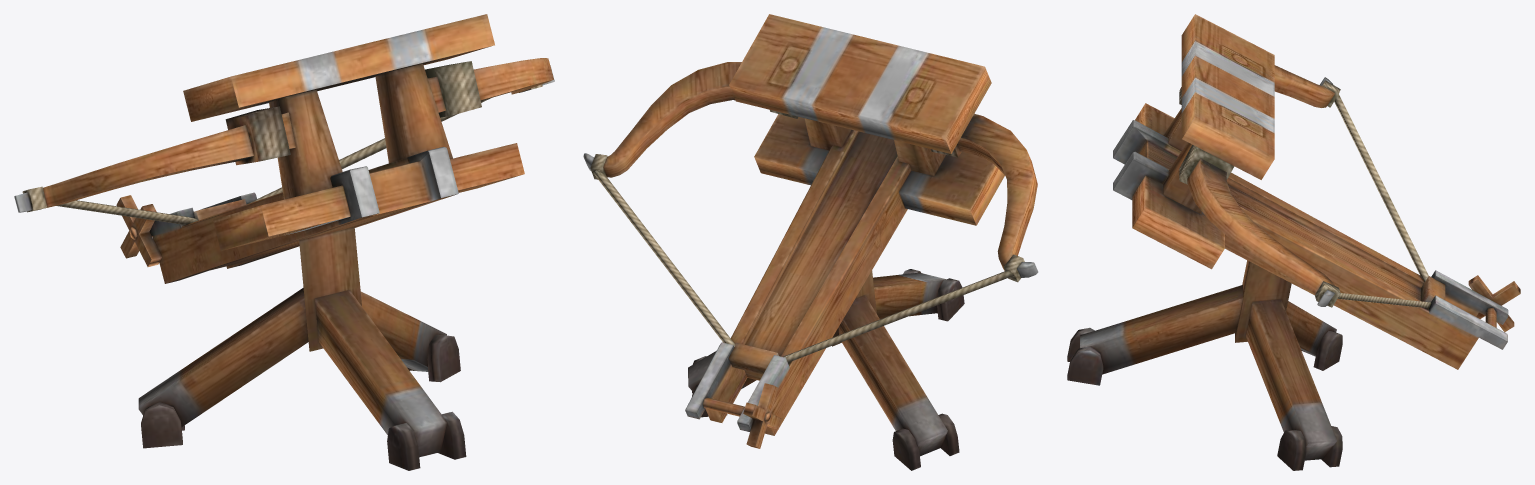
Rendered from weapon-slice-ironweapons.glb.
3 renders of one model, left to right at view 1: azimuth 30°, elevation 25°; view 2: azimuth 150°, elevation 25°; view 3: azimuth 270°, elevation 25°, orthographic. The views are drawn at different scales.
Bounding box in the file's own units: 2.58 × 1.92 × 2.28.
1 material, 1 textured.
